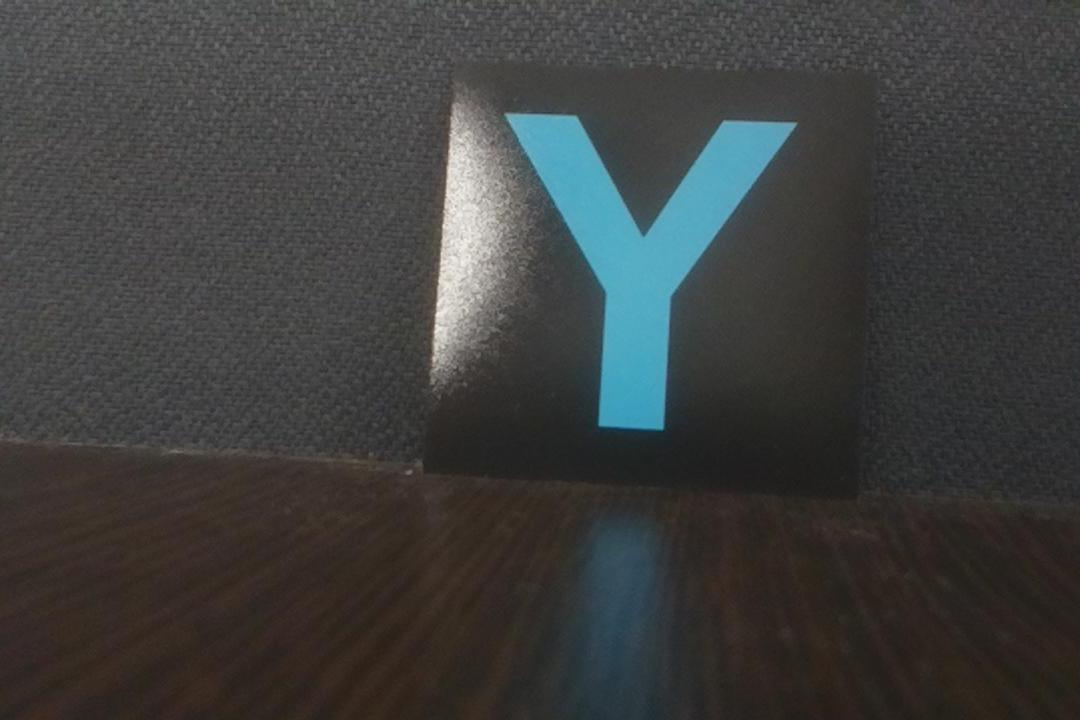y: (455, 74, 857, 481)
